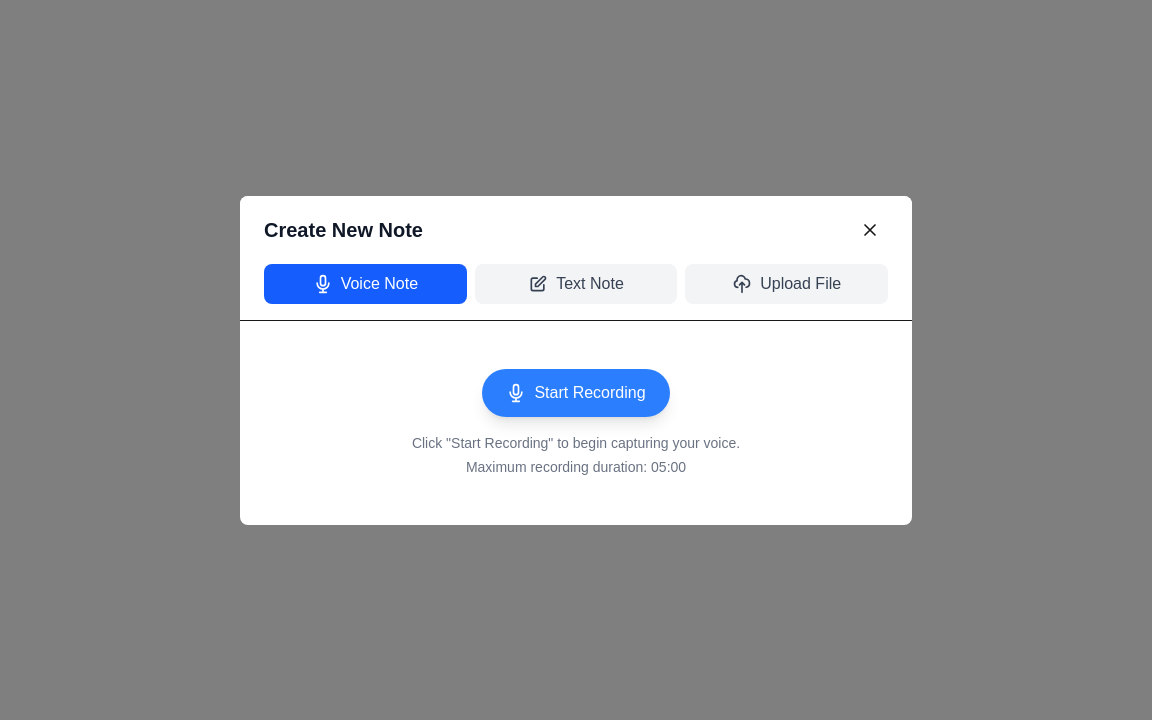
Test case: VoiceNoteModal › Mode Switching › should switch to text mode when text button is clicked
Click the button "Text Note": (576,284) top-left (475, 264), bottom-right (677, 304)
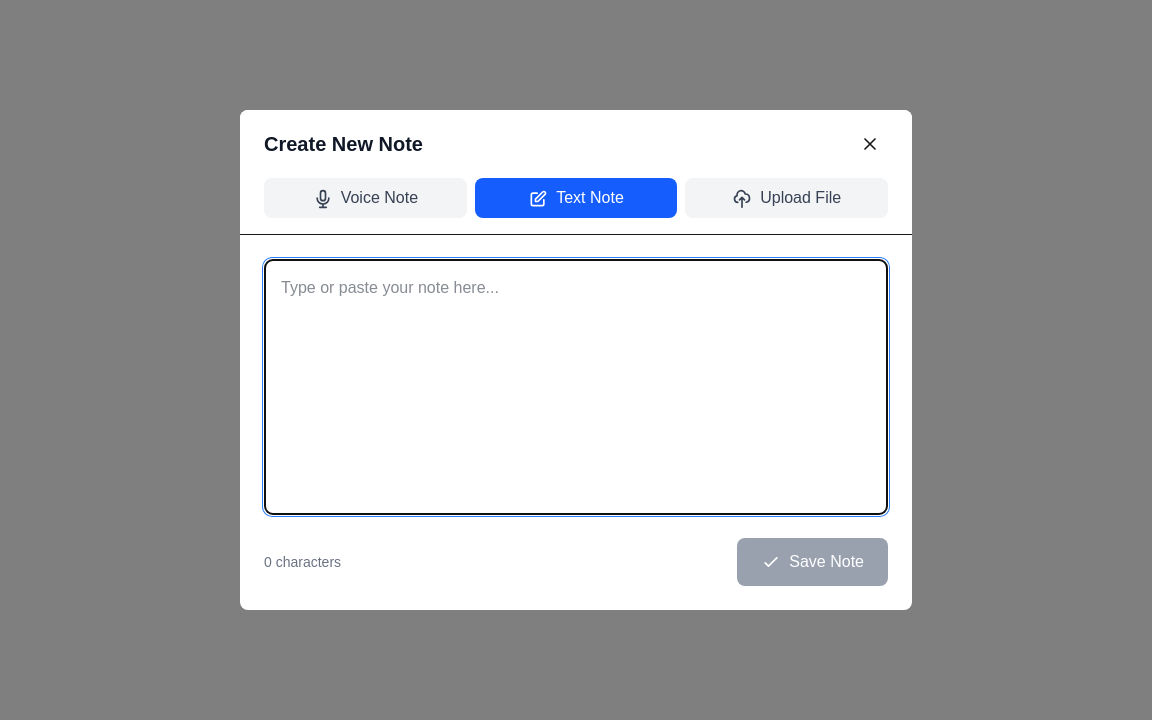
Result: the text box is shown at top-left (264, 259), bottom-right (888, 515)
